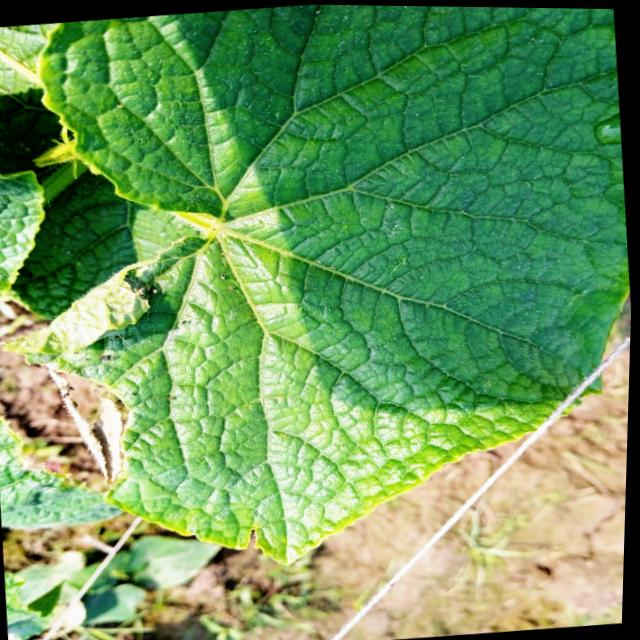Fresh-Leaf: (35, 5, 630, 565)
